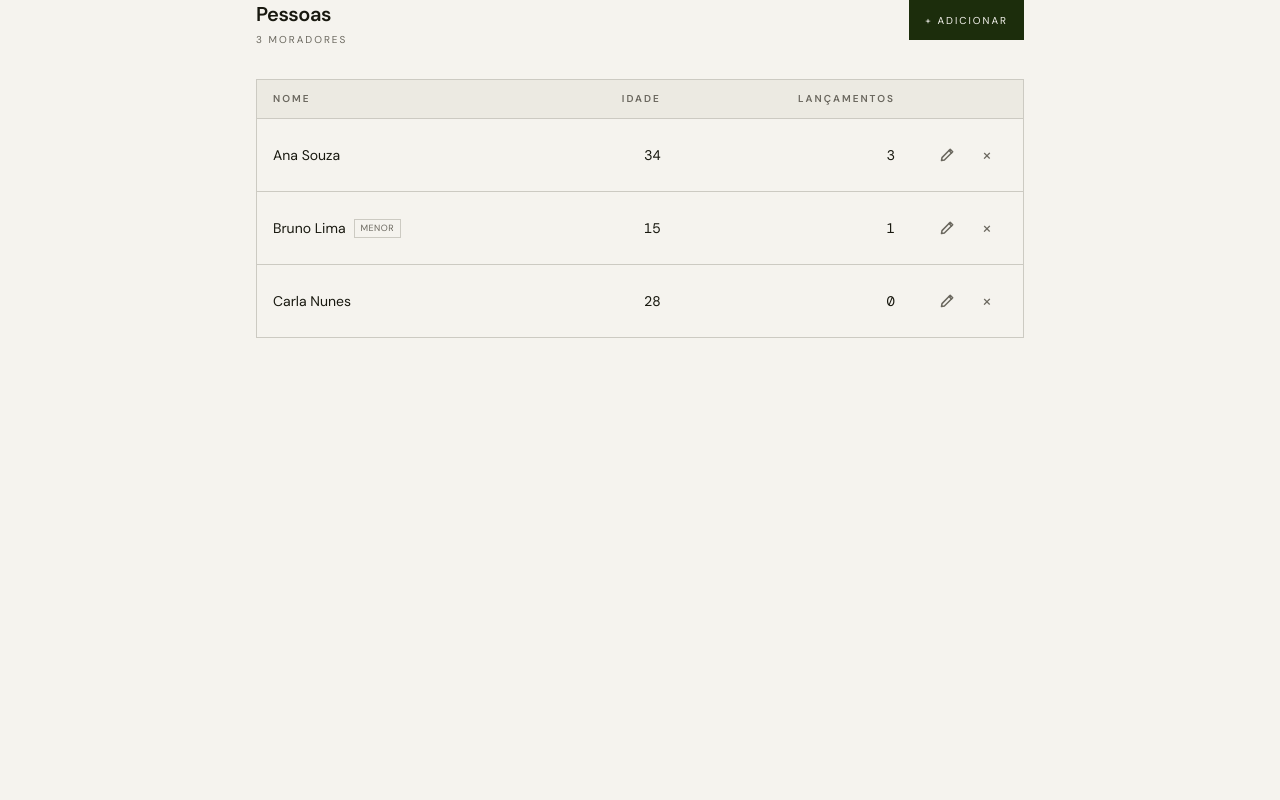
Test: pessoas › não remove nada ao cancelar a exclusão
The width and height of the screenshot is (1280, 800).
Expected: the text "Ana Souza" is shown, [273,146,340,164]
Click the button named "Excluir Ana Souza": (987, 155) [967,135,1007,175]
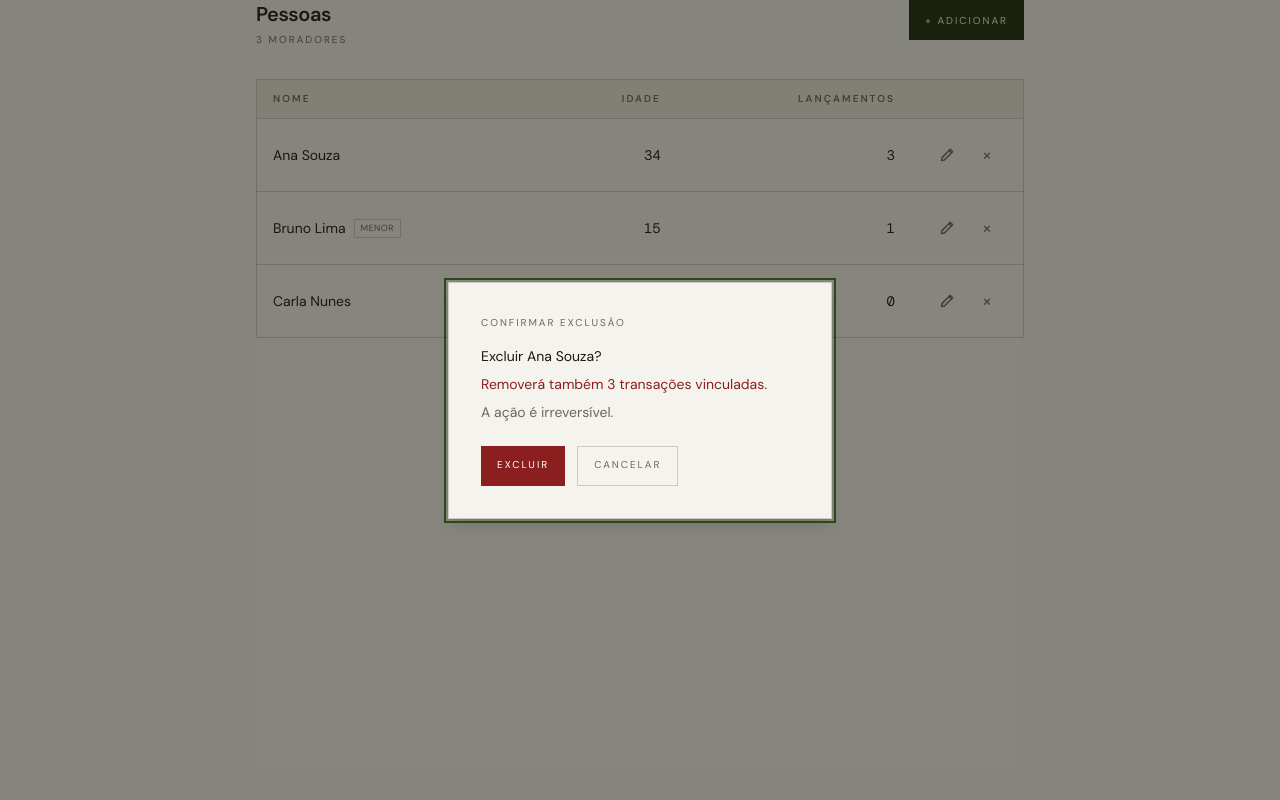
Click the button "Cancelar": (628, 466) [577,446,678,486]
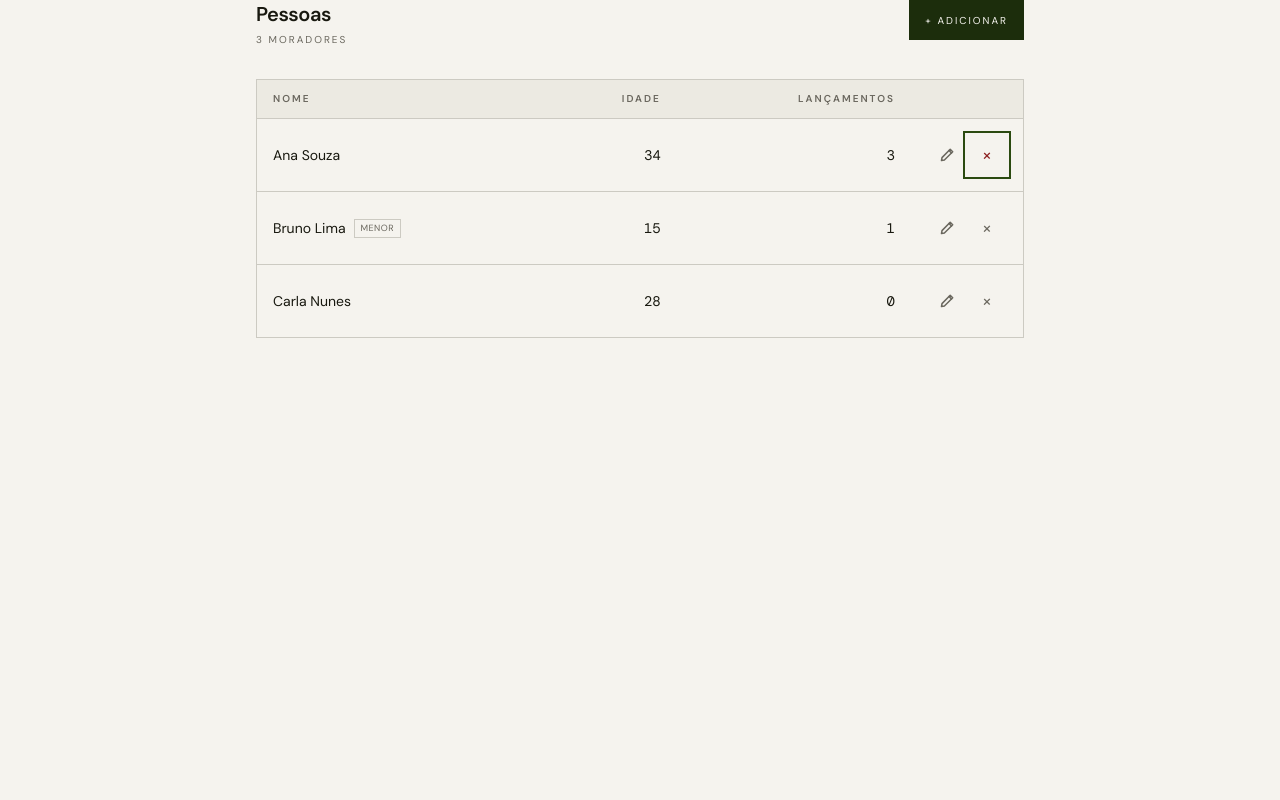
Expected: the text "Ana Souza" is shown, [273,146,340,164]
Expected: the dialog is gone
